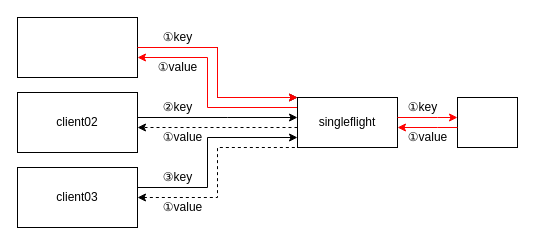
This 535x245 diagram has some shape labels left out. The centre of each missing label's shape, as x and y in pixels:
"client01" goes at point 77,47.
"DB" goes at point 487,122.
